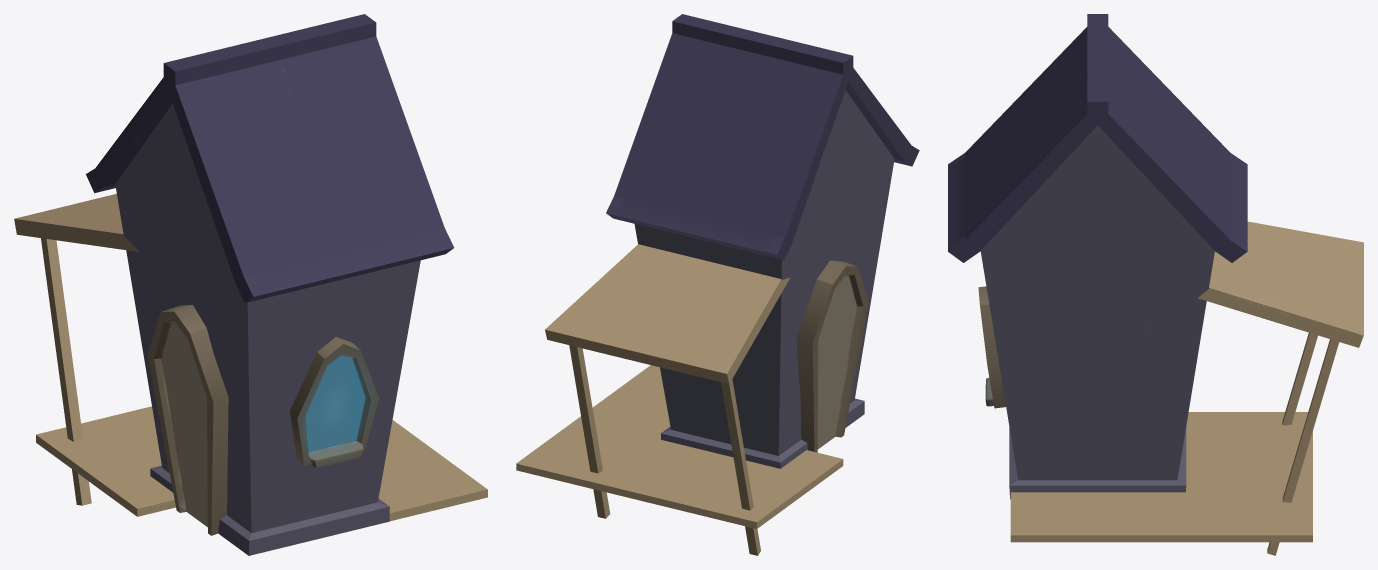
The model's file is house_1.2.fbx.
The picture shows the model from 3 angles, left to right: view 1: azimuth 30°, elevation 25°; view 2: azimuth 150°, elevation 25°; view 3: azimuth 270°, elevation 25°; orthographic projection. The views are drawn at different scales.
Parts seen in each view (by area): view 1: House, Ground1, Door, Window, Roof; view 2: House, Roof, Ground1, Door; view 3: House, Ground1, Roof, Window.
Boxes of the visible parts, x1,y1,x2,y2 form: House: (86, 14, 454, 555); Ground1: (36, 406, 487, 521); Door: (147, 305, 228, 535); Window: (290, 337, 379, 467); Roof: (14, 193, 139, 505); House: (606, 14, 919, 468); Roof: (545, 244, 790, 555); Ground1: (516, 365, 843, 528); Door: (796, 260, 868, 452); House: (948, 14, 1247, 499); Ground1: (1010, 412, 1312, 542); Roof: (1198, 221, 1363, 555); Window: (978, 286, 1005, 408).
Size of the model in its own units: 15 by 25.96 by 21.4.
1 material, 1 textured.
